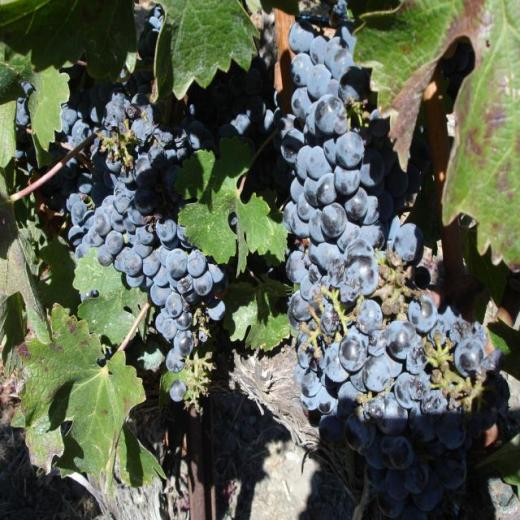Orange: (235, 19, 513, 520), (16, 5, 232, 401)
